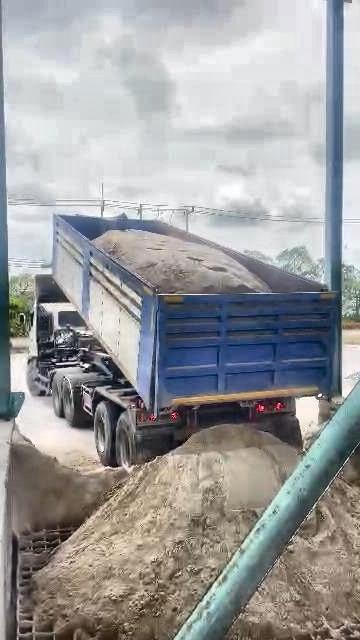sand: (34, 425, 297, 639), (229, 476, 360, 638), (10, 430, 126, 532), (94, 230, 268, 293), (290, 621, 360, 639), (343, 445, 360, 488)
